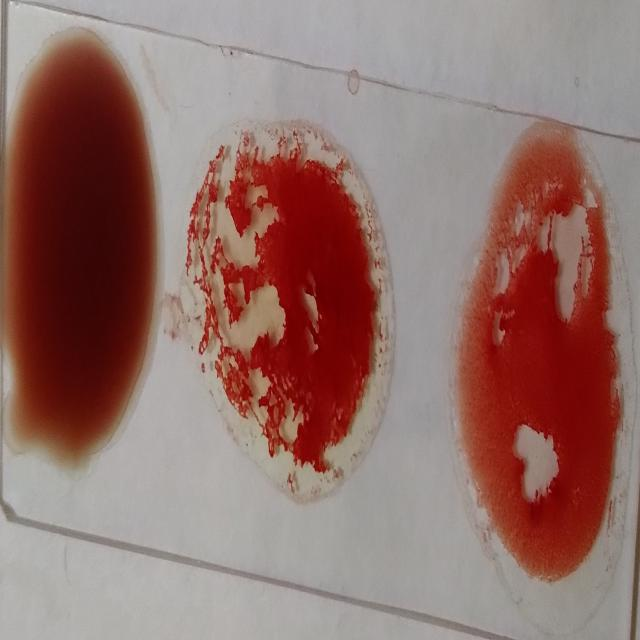B: (191, 117, 401, 508)
D: (458, 126, 622, 598)
